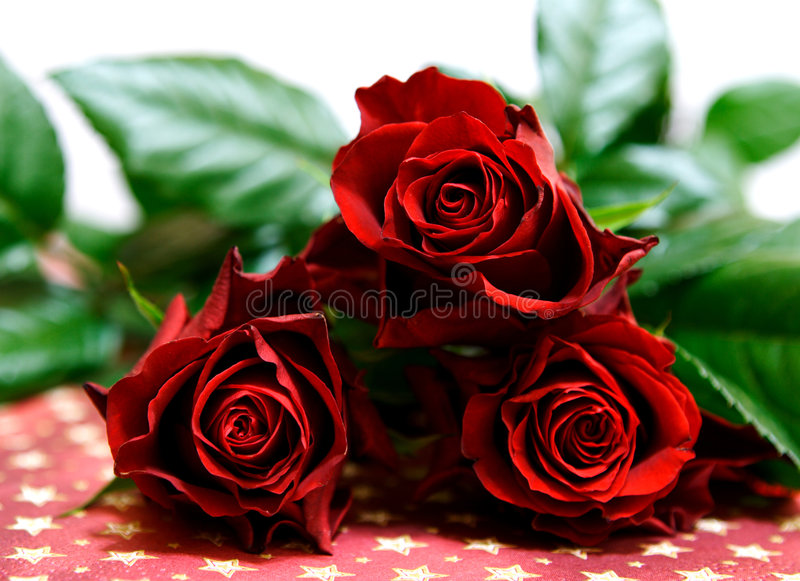RedRose: (75, 250, 383, 559), (319, 56, 612, 325), (440, 301, 713, 547)
